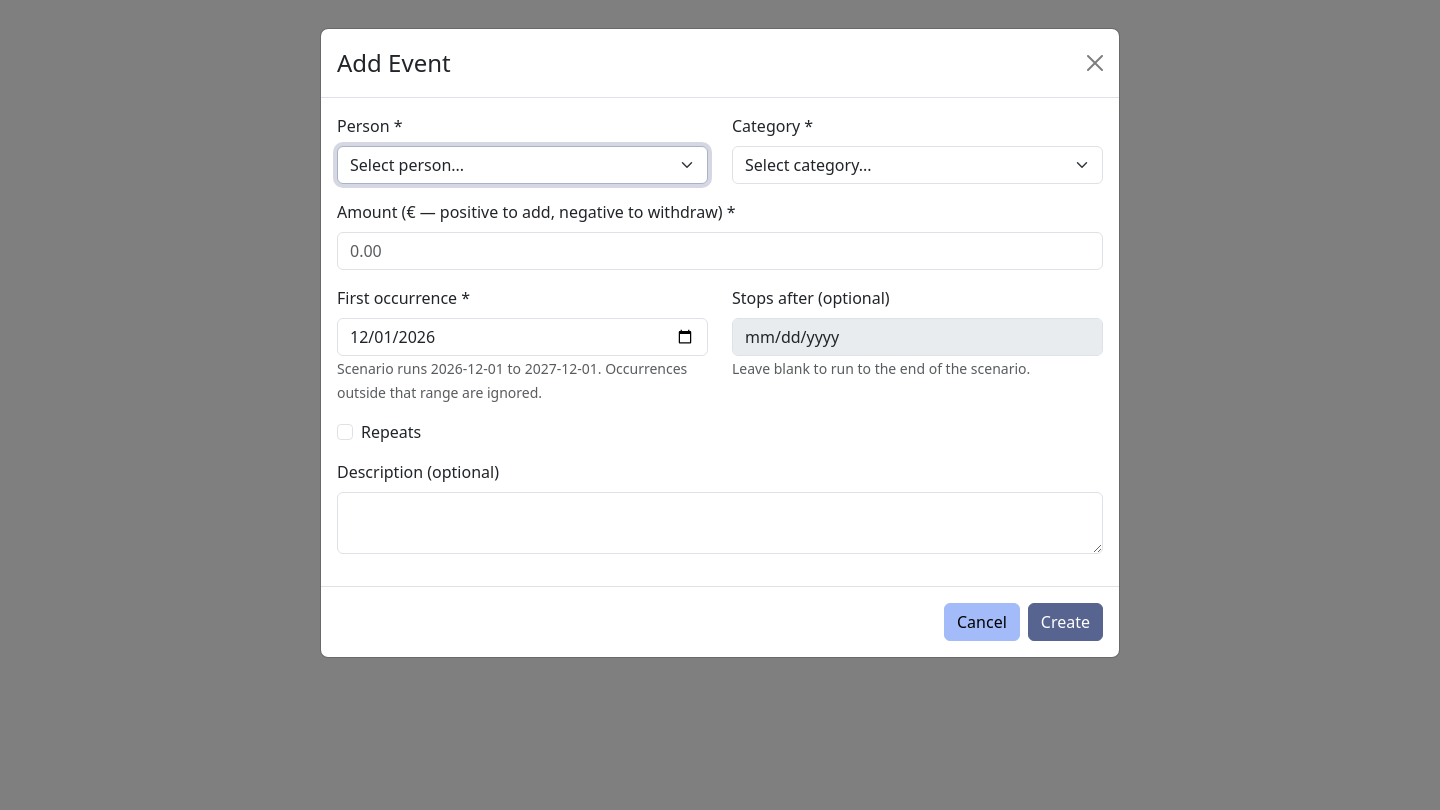
Test: recurrence toggle › hides the interval and unit until Repeats is checked
Expected: the field labelled "every" is not shown
Expected: the field labelled "unit" is not shown
Click the checkbox labelled "Repeats" at (345, 432), box [337,424,353,440]
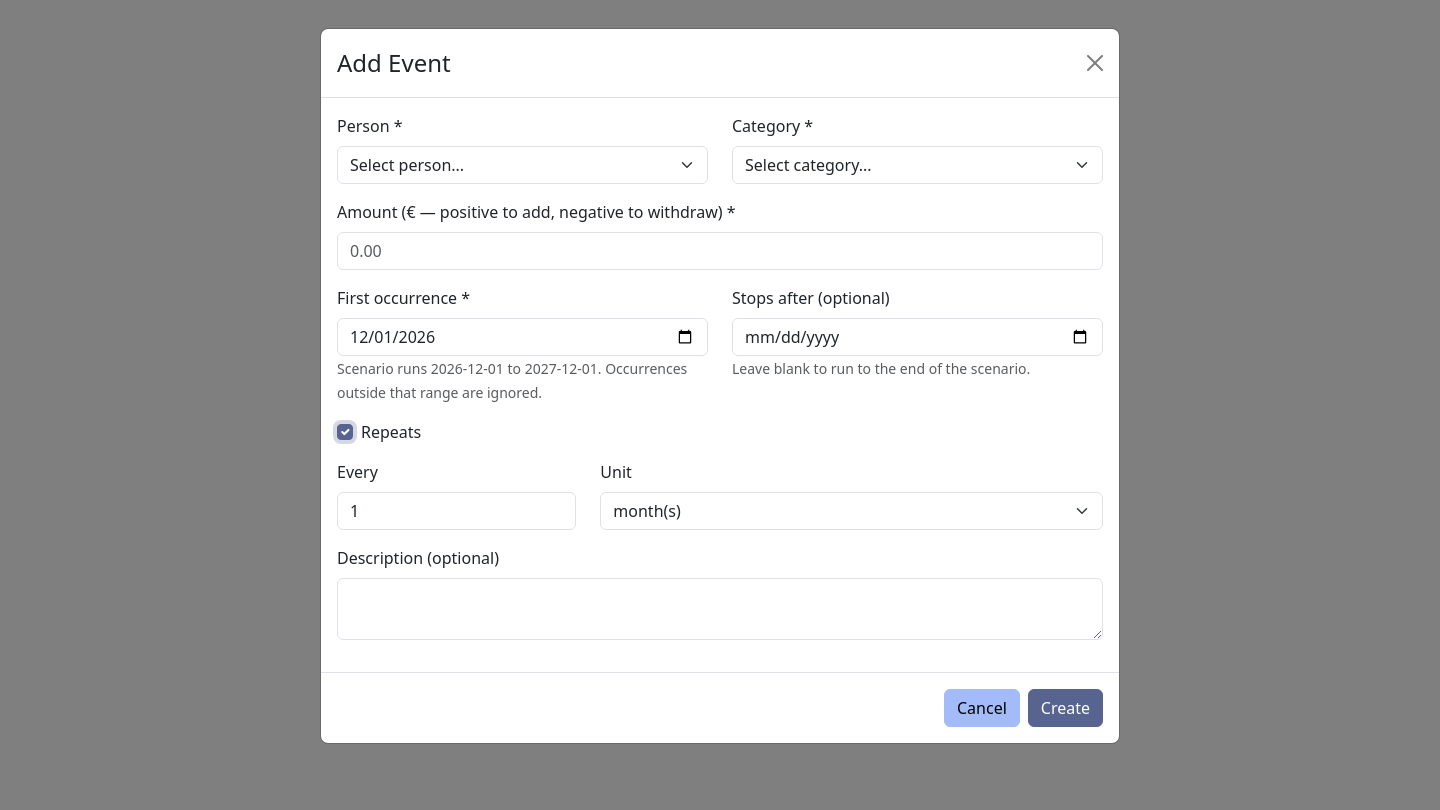
Expected: the number field labelled "Every" is shown, [337,492,576,530]
Expected: the dropdown labelled "Unit" is shown, [600,492,1103,530]
